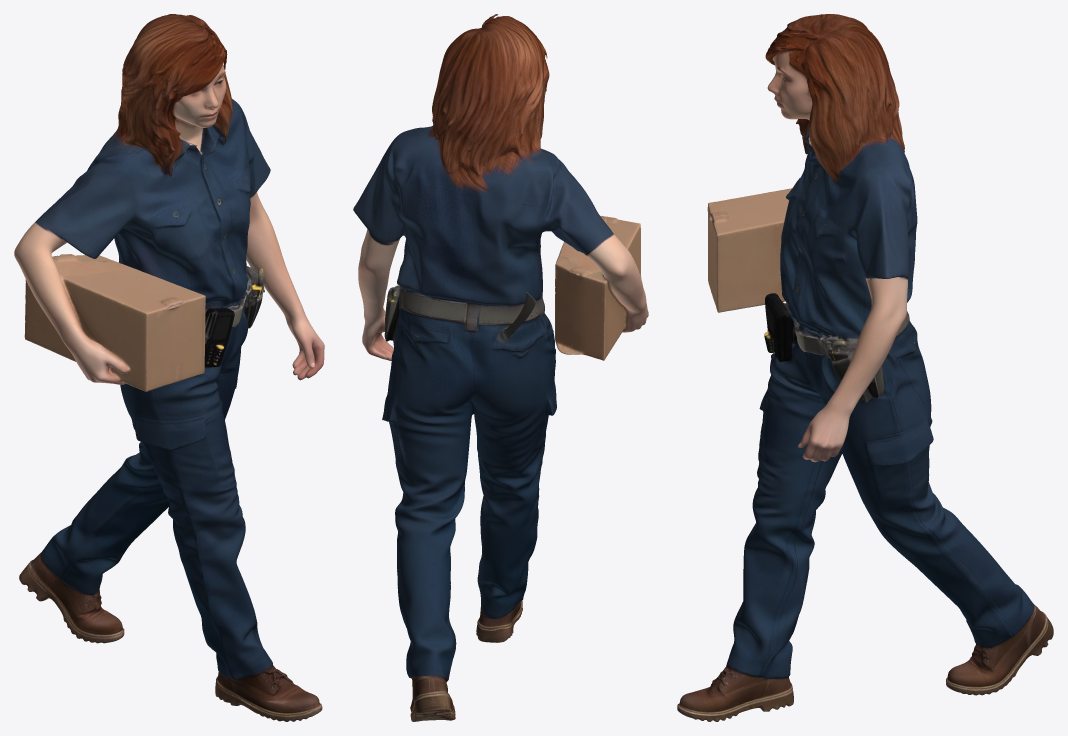
File: driver.glb
3 views of the same model, side by side, from view 1: azimuth 30°, elevation 25°; view 2: azimuth 150°, elevation 25°; view 3: azimuth 270°, elevation 25° (orthographic). The views are drawn at different scales.
Visible parts, largest first — view 1: Object_5, Object_7, Object_6; view 2: Object_6, Object_5, Object_7; view 3: Object_6, Object_5, Object_7.
Boxes of the visible parts, x1,y1,x2,y2 form: Object_5: (14,14,322,721); Object_7: (36,24,322,695); Object_6: (19,15,324,643); Object_6: (353,14,641,721); Object_5: (353,25,648,642); Object_7: (374,14,648,642); Object_6: (768,14,1053,695); Object_5: (677,16,908,721); Object_7: (727,18,832,709).
Bounding box in the file's own units: 0.8622 × 1.9 × 0.9623.
Materials: 1 (1 with a texture image).
